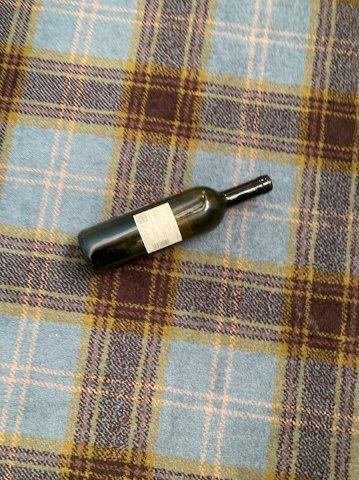botolkaca: (77, 175, 275, 271)
